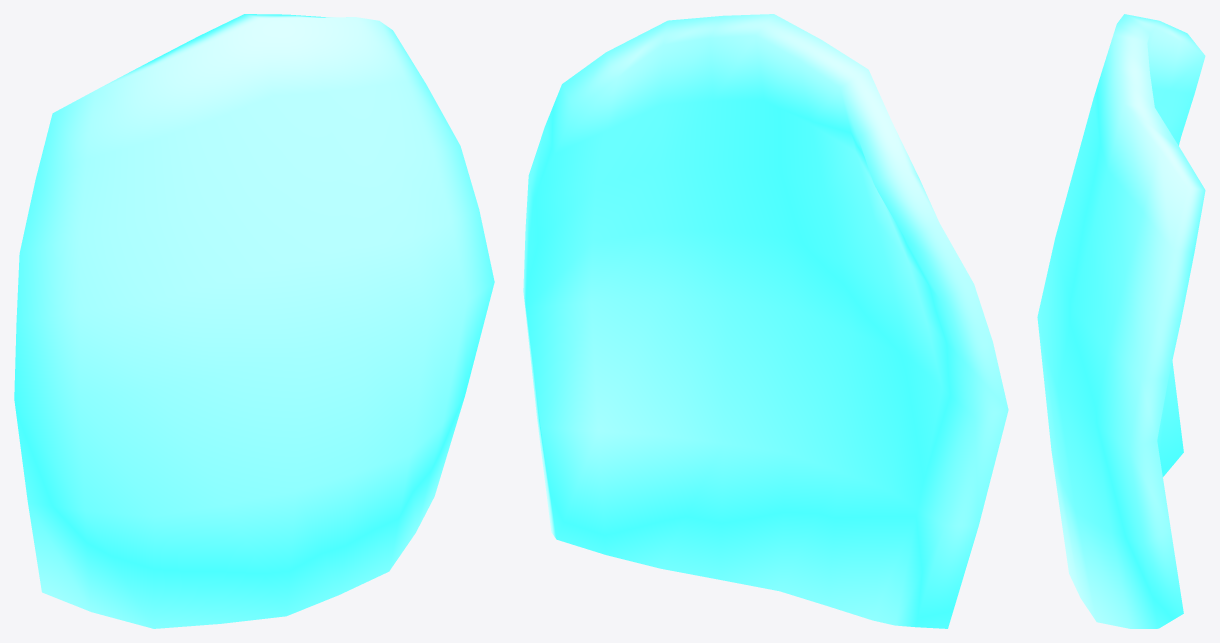
File: Loot Pod Door.fbx
3 renders of one model, left to right at view 1: azimuth 30°, elevation 25°; view 2: azimuth 150°, elevation 25°; view 3: azimuth 270°, elevation 25°, orthographic. The views are drawn at different scales.
Visible parts, largest first — view 1: Cylinder.020; view 2: Cylinder.020; view 3: Cylinder.020.
Part boxes in pixels (x1,y1,x2,y2): Cylinder.020: [14, 14, 494, 628]; Cylinder.020: [523, 14, 1008, 628]; Cylinder.020: [1037, 14, 1205, 628].
Size of the model in its own units: 206 by 238 by 67.24.
